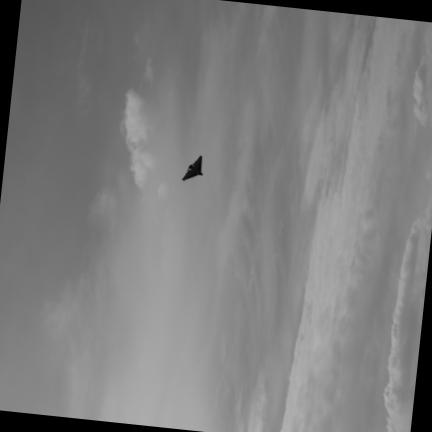Shahed: (183, 156, 202, 179)
